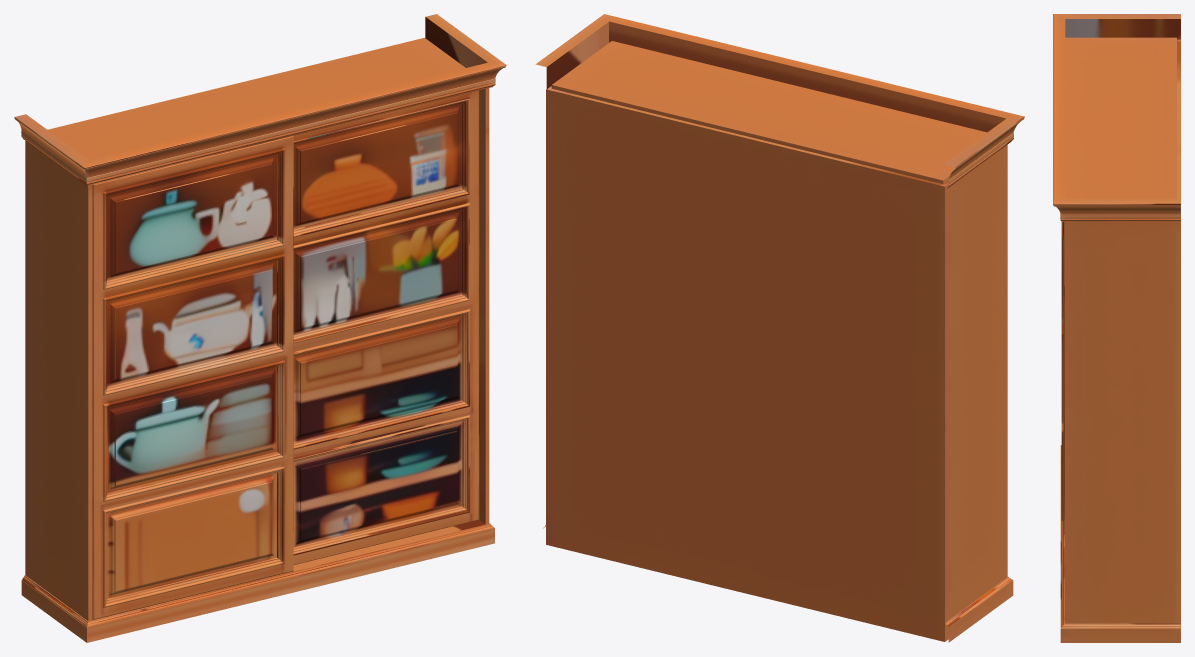
File: edited_mesh.glb
The picture shows the model from 3 angles, left to right: view 1: azimuth 30°, elevation 25°; view 2: azimuth 150°, elevation 25°; view 3: azimuth 270°, elevation 25°; orthographic projection. The views are drawn at different scales.
Parts seen in each view (by area): view 1: normalized_model.obj; view 2: normalized_model.obj; view 3: normalized_model.obj.
Part boxes in pixels (x1,y1,x2,y2): normalized_model.obj: (14,14,506,642); normalized_model.obj: (535,14,1024,642); normalized_model.obj: (1053,14,1180,642).
Size of the model in its own units: 1.26 by 1.37 by 0.359.
1 material, 1 textured.
